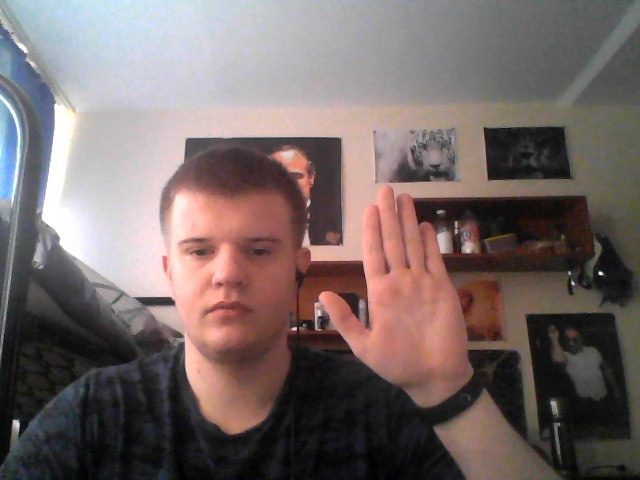hello: (317, 180, 470, 382)
